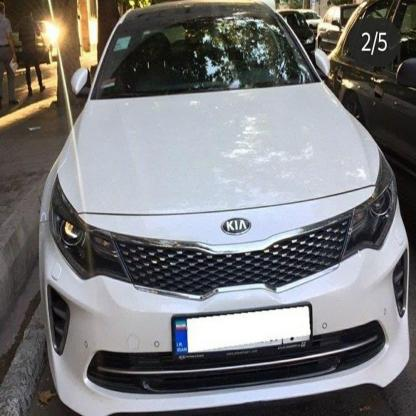Car: (40, 0, 405, 416), (333, 5, 416, 137), (274, 7, 320, 56)
